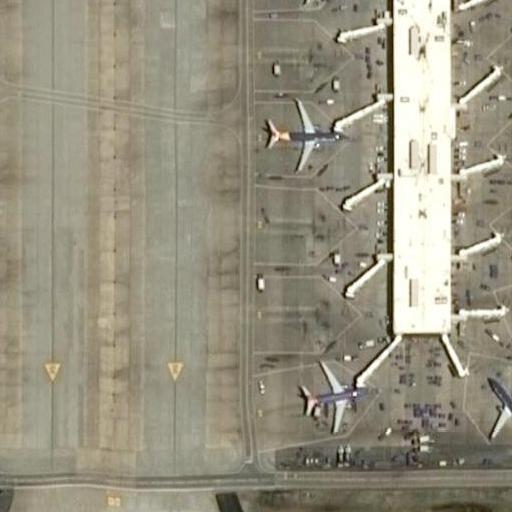Aircraft: (260, 88, 344, 174), (295, 353, 372, 434), (479, 369, 512, 445), (268, 0, 352, 7)
